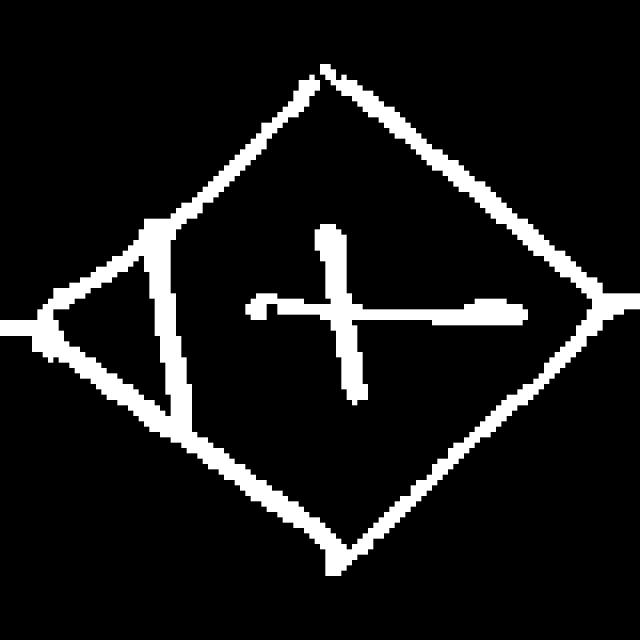dependant_voltage: (39, 67, 606, 556)
